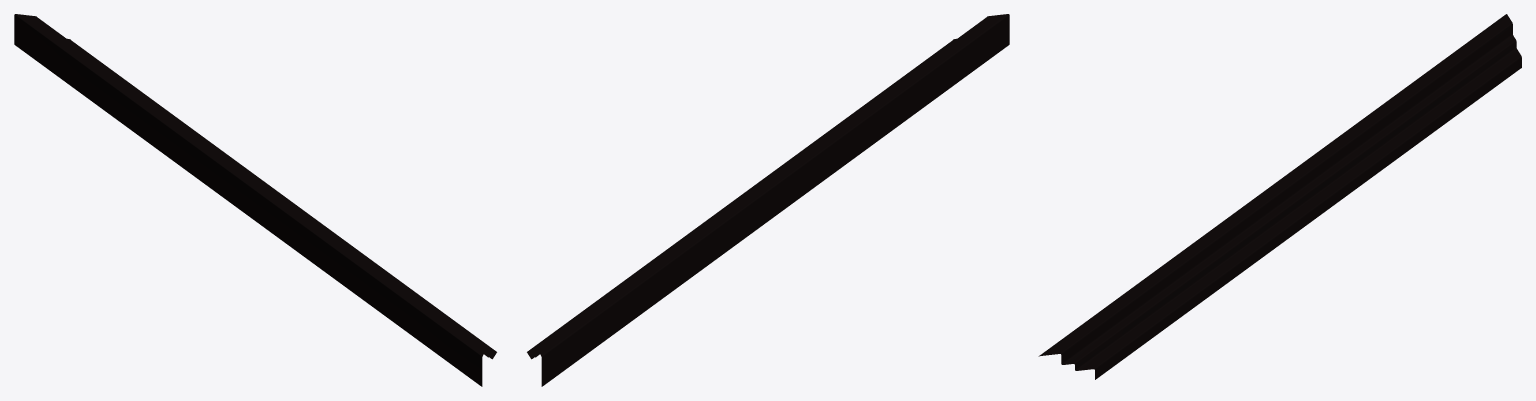
File: frame.gltf
The picture shows the model from 3 angles, left to right: view 1: azimuth 30°, elevation 25°; view 2: azimuth 150°, elevation 25°; view 3: azimuth 330°, elevation 25°; orthographic projection.
Parts seen in each view (by area): view 1: polySurface3, polySurface2, polySurface4; view 2: polySurface3, polySurface4, polySurface2; view 3: polySurface3, polySurface4, polySurface2.
Boxes of the visible parts, x1,y1,x2,y2 form: polySurface3: [80, 59, 450, 337]; polySurface2: [415, 304, 496, 386]; polySurface4: [14, 14, 115, 92]; polySurface3: [573, 59, 943, 337]; polySurface4: [527, 304, 608, 386]; polySurface2: [908, 14, 1009, 92]; polySurface3: [1105, 62, 1475, 346]; polySurface4: [1441, 14, 1521, 100]; polySurface2: [1038, 308, 1140, 379].
Size of the model in its own units: 1.35 by 1.08 by 29.99.
3 materials, 3 textured.
